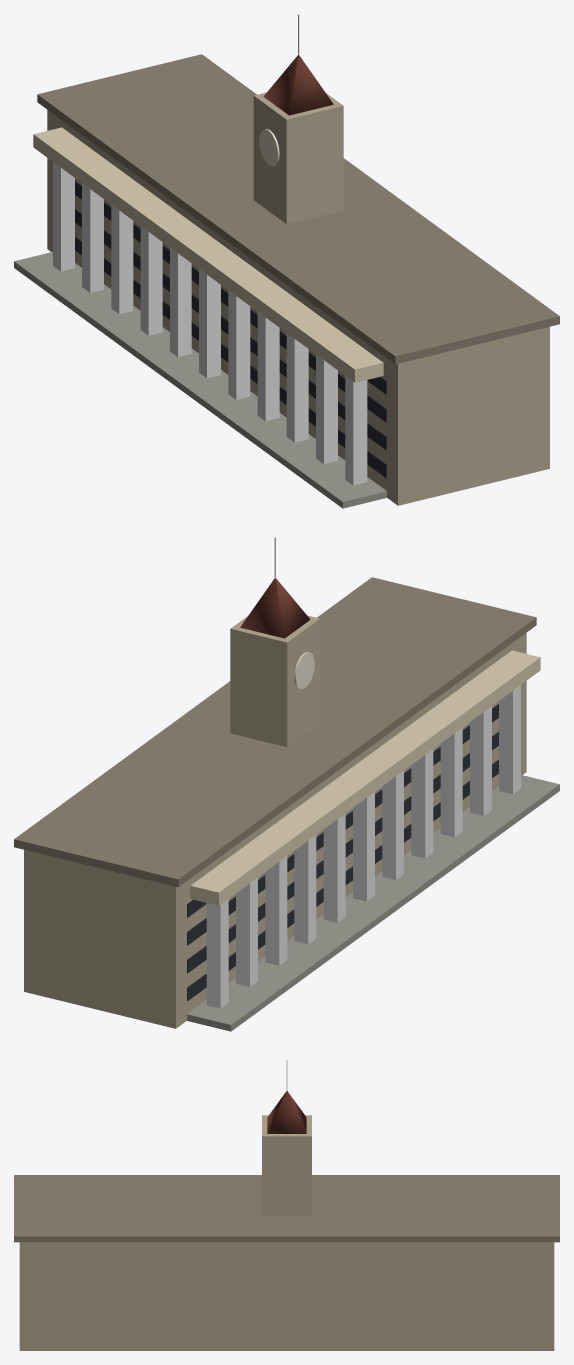
The model's file is theme-admin-2.glb.
3 renders of one model, top to bottom at view 1: azimuth 30°, elevation 25°; view 2: azimuth 150°, elevation 25°; view 3: azimuth 270°, elevation 25°, orthographic. The views are drawn at different scales.
Visible parts, largest first — view 1: 01_#8a8070_noshadow, 00_#b8ac94, 03_#d8ccb0, 04_#9a9890, 05_#2e333b_noshadow, solid.011, solid.009, solid.004, solid.008, solid.007, solid.003, 07_#6a3a2e (+5 smaller); view 2: 01_#8a8070_noshadow, 00_#b8ac94, 03_#d8ccb0, 04_#9a9890, 05_#2e333b_noshadow, solid.001, solid.003, solid.008, solid.004, solid.005, solid.009, 07_#6a3a2e (+5 smaller); view 3: 00_#b8ac94, 01_#8a8070_noshadow, 07_#6a3a2e.
Boxes of the visible parts, x1=… form: 01_#8a8070_noshadow: x1=37, y1=54, x2=559, y2=364; 00_#b8ac94: x1=47, y1=92, x2=549, y2=505; 03_#d8ccb0: x1=33, y1=127, x2=383, y2=382; 04_#9a9890: x1=14, y1=252, x2=386, y2=508; 05_#2e333b_noshadow: x1=75, y1=181, x2=386, y2=477; solid.011: x1=345, y1=376, x2=367, y2=485; solid.009: x1=286, y1=333, x2=308, y2=442; solid.004: x1=140, y1=226, x2=162, y2=335; solid.008: x1=257, y1=312, x2=279, y2=421; solid.007: x1=228, y1=290, x2=250, y2=399; solid.003: x1=111, y1=205, x2=133, y2=314; 07_#6a3a2e: x1=263, y1=54, x2=333, y2=115; 01_#8a8070_noshadow: x1=14, y1=577, x2=536, y2=887; 00_#b8ac94: x1=24, y1=615, x2=526, y2=1028; 03_#d8ccb0: x1=190, y1=650, x2=540, y2=905; 04_#9a9890: x1=187, y1=775, x2=559, y2=1031; 05_#2e333b_noshadow: x1=187, y1=704, x2=498, y2=1000; solid.001: x1=206, y1=899, x2=228, y2=1008; solid.003: x1=265, y1=856, x2=287, y2=965; solid.008: x1=411, y1=749, x2=433, y2=858; solid.004: x1=294, y1=835, x2=316, y2=944; solid.005: x1=323, y1=813, x2=345, y2=922; solid.009: x1=440, y1=728, x2=462, y2=837; 07_#6a3a2e: x1=240, y1=577, x2=310, y2=638; 00_#b8ac94: x1=19, y1=1115, x2=554, y2=1350; 01_#8a8070_noshadow: x1=14, y1=1175, x2=559, y2=1242; 07_#6a3a2e: x1=267, y1=1091, x2=306, y2=1133.
Size of the model in its own units: 32 by 52 by 98.
